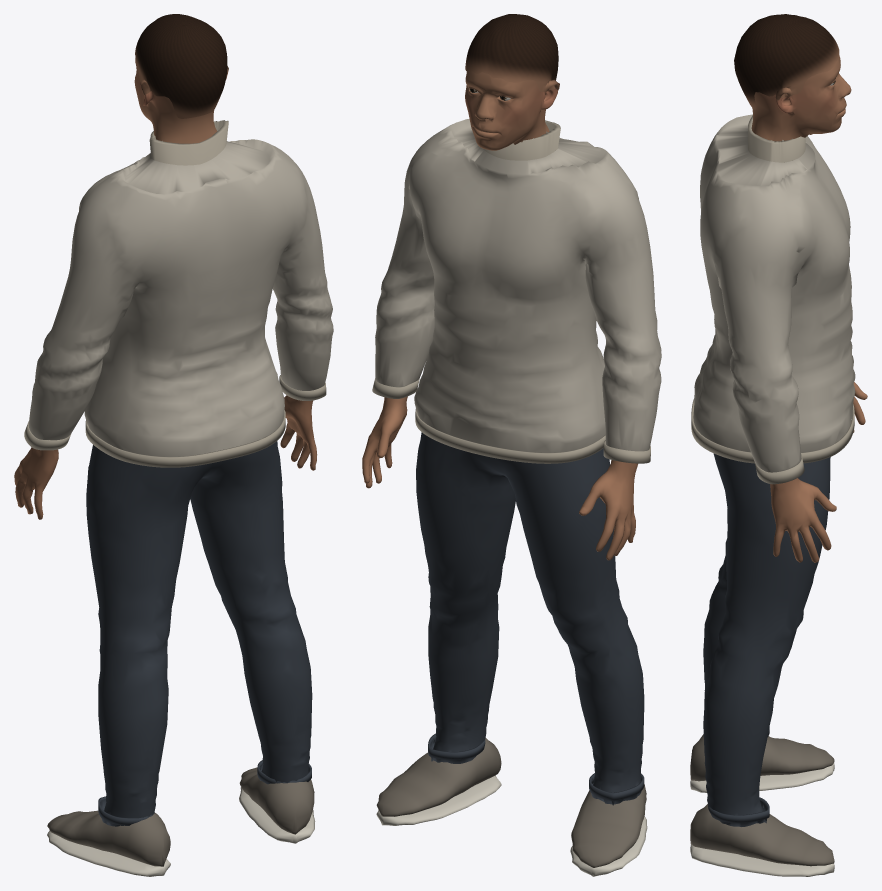
The model's file is person-standing-v2.glb.
The picture shows the model from 3 angles, left to right: view 1: azimuth 30°, elevation 25°; view 2: azimuth 150°, elevation 25°; view 3: azimuth 270°, elevation 25°; orthographic projection.
Visible parts, largest first — view 1: Standing | Sweater • full sleeves, Standing | Trousers • relaxed taper, Standing | Hair | closely clipped tapered cut, Standing | Skin • face neck hands, Standing | Suede slip-on L, Standing | Suede slip-on R, Standing | Sweater • hem rib, Standing | Rubber sole L, Standing | Rubber sole R; view 2: Standing | Sweater • full sleeves, Standing | Trousers • relaxed taper, Standing | Skin • face neck hands, Standing | Hair | closely clipped tapered cut, Standing | Suede slip-on R, Standing | Suede slip-on L, Standing | Sweater • hem rib, Standing | Rubber sole R, Standing | Rubber sole L, Standing | Sweater • cuff L; view 3: Standing | Sweater • full sleeves, Standing | Trousers • relaxed taper, Standing | Skin • face neck hands, Standing | Hair | closely clipped tapered cut, Standing | Suede slip-on R, Standing | Suede slip-on L, Standing | Rubber sole R, Standing | Sweater • hem rib, Standing | Rubber sole L, Standing | Sweater • cuff R, Standing | Trousers • ankle hem R.
Part boxes in pixels (x1,y1,x2,y2): Standing | Sweater • full sleeves: (28, 120, 333, 456); Standing | Trousers • relaxed taper: (86, 441, 312, 826); Standing | Hair | closely clipped tapered cut: (135, 14, 228, 118); Standing | Skin • face neck hands: (14, 57, 317, 519); Standing | Suede slip-on L: (47, 810, 170, 866); Standing | Suede slip-on R: (239, 767, 314, 834); Standing | Sweater • hem rib: (85, 410, 285, 467); Standing | Rubber sole L: (47, 830, 170, 876); Standing | Rubber sole R: (239, 787, 315, 843); Standing | Sweater • full sleeves: (375, 119, 661, 452); Standing | Trousers • relaxed taper: (416, 432, 644, 805); Standing | Skin • face neck hands: (362, 71, 637, 560); Standing | Hair | closely clipped tapered cut: (465, 14, 559, 91); Standing | Suede slip-on R: (376, 738, 501, 816); Standing | Suede slip-on L: (571, 784, 646, 867); Standing | Sweater • hem rib: (415, 409, 605, 463); Standing | Rubber sole R: (376, 775, 501, 825); Standing | Rubber sole L: (570, 816, 647, 876); Standing | Sweater • cuff L: (603, 440, 650, 463); Standing | Sweater • full sleeves: (693, 114, 855, 472); Standing | Trousers • relaxed taper: (703, 453, 830, 826); Standing | Skin • face neck hands: (751, 57, 867, 562); Standing | Hair | closely clipped tapered cut: (734, 14, 839, 109); Standing | Suede slip-on R: (690, 804, 834, 866); Standing | Suede slip-on L: (690, 734, 834, 781); Standing | Rubber sole R: (690, 844, 834, 876); Standing | Sweater • hem rib: (691, 398, 854, 463); Standing | Rubber sole L: (690, 763, 834, 792); Standing | Sweater • cuff R: (755, 456, 804, 484); Standing | Trousers • ankle hem R: (708, 797, 769, 823).
Size of the model in its own units: 0.6195 by 1.69 by 0.3374.
10 materials, 1 textured.
